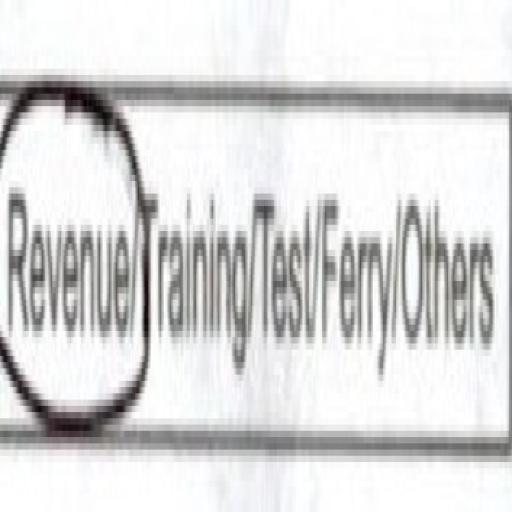check: (0, 0, 135, 481)
